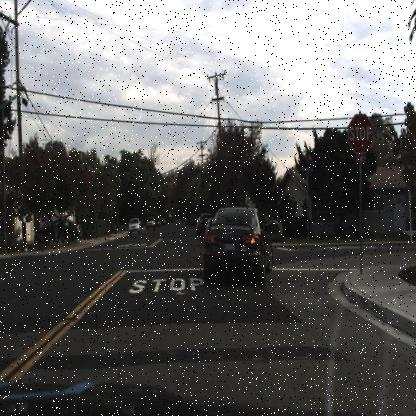car: (203, 206, 276, 278), (35, 218, 84, 240), (126, 216, 142, 235), (144, 216, 158, 232)
